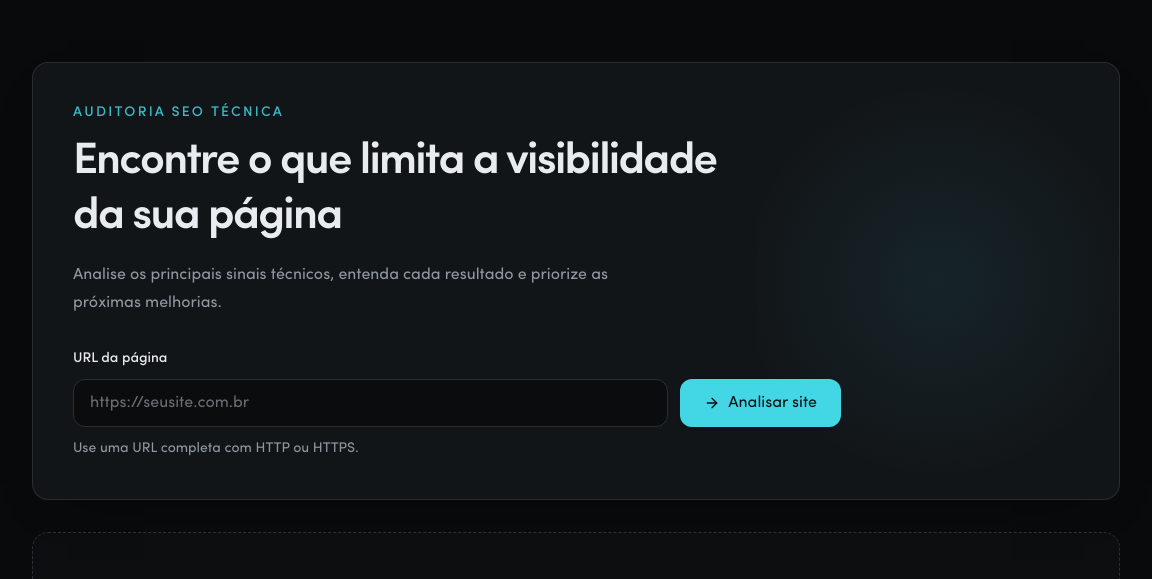
it: Home › apresenta o resumo e todas as verificações da análise
Type " https://example.com " into the field labelled "URL da página".
click(371, 403); type(" https://example.com ")  # box [73, 379, 668, 427]
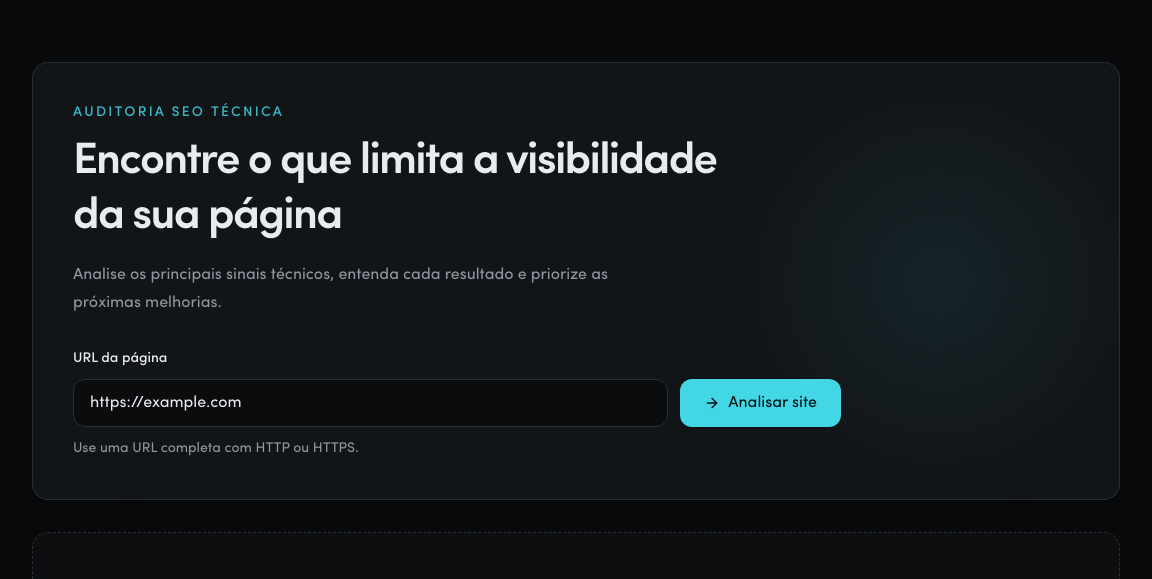
Click the button "Analisar site".
click(761, 403)  # box [680, 379, 841, 427]
(page scrolled)
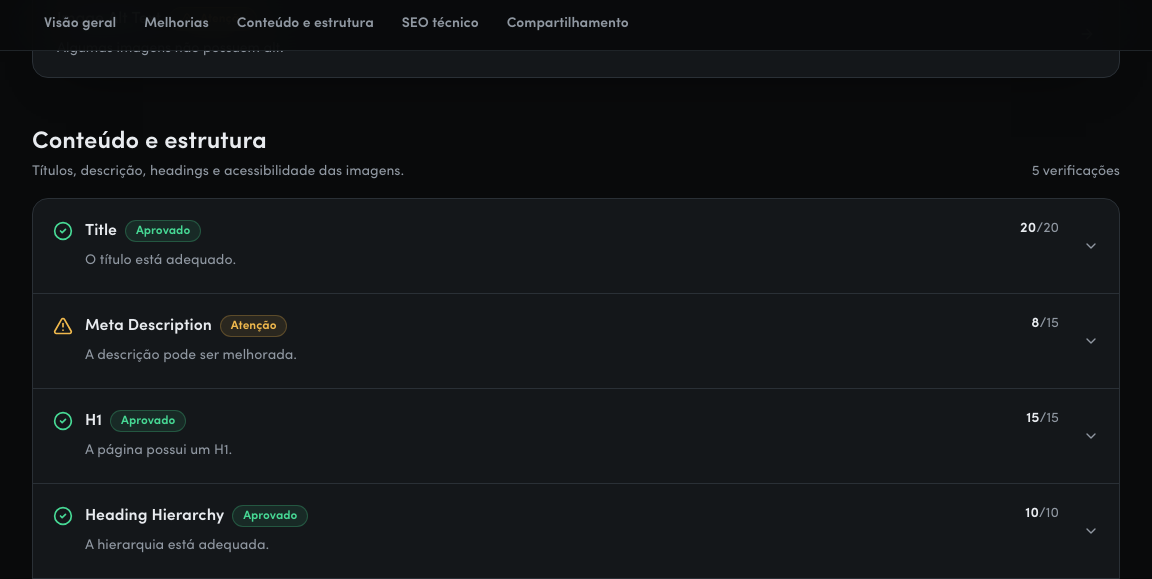
Expected: the heading "Title Aprovado O título está adequado. 20/20" is shown, [53, 199, 1099, 293]
Click the button "Meta Description".
click(148, 326)  # box [53, 294, 1099, 388]
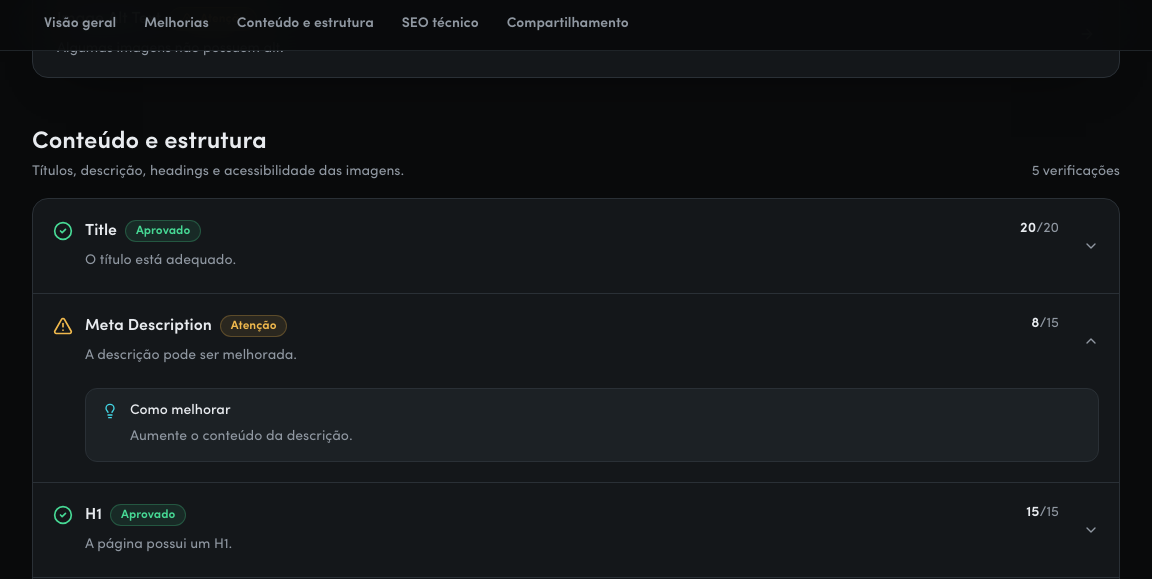
Expected: the text "Aumente o conteúdo da descrição." is shown, [130, 425, 353, 449]
